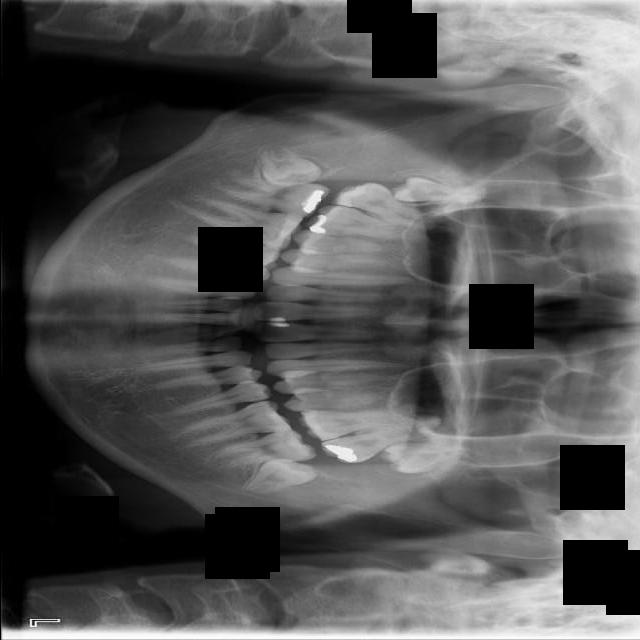3M ESPE Implant: (389, 177, 495, 202)
52: (267, 167, 332, 233), (256, 420, 317, 474), (237, 398, 291, 438), (305, 203, 362, 237), (319, 434, 378, 465), (250, 301, 305, 322), (253, 320, 303, 343)
73: (80, 532, 94, 540)
BioHorizons Implant: (318, 414, 445, 470)
BioLife Implant: (379, 442, 452, 473)
Biomet 3i Implant: (239, 449, 318, 498)
Blue Sky Bio Implant: (210, 426, 317, 470)
Caries: (331, 171, 445, 239)
Implant: (222, 175, 330, 220)
Keystone Dental Implant: (259, 145, 321, 189)
